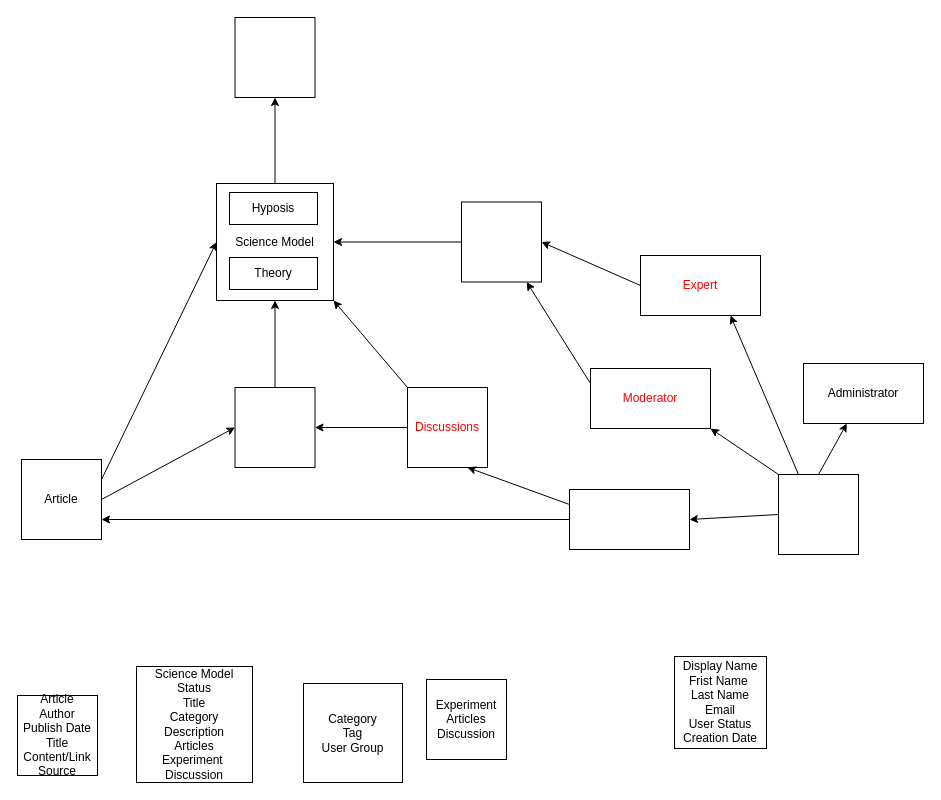
Image size: 941x800. Some labels were removed from this diagram. The shapes that lost their labels are listed below. From the top down, each one's box as (x1, y1, x2, y2) in pixels, then its label:
(234, 16, 315, 98): Technology
(460, 201, 542, 282): Categories
(234, 386, 315, 468): Experiment
(568, 488, 690, 550): User
(778, 474, 858, 554): Users
